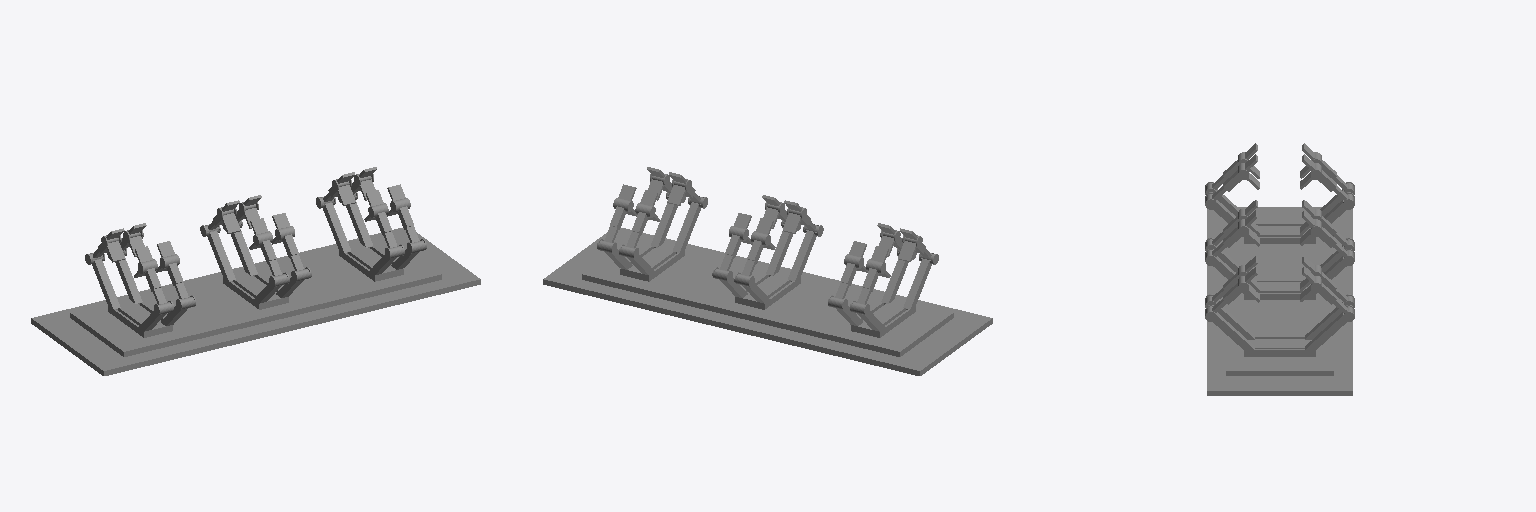
File: small-missile-workstation.obj
3 renders of one model, left to right at view 1: azimuth 30°, elevation 25°; view 2: azimuth 150°, elevation 25°; view 3: azimuth 270°, elevation 25°, orthographic.
Parts seen in each view (by area): view 1: Group_001, Component_1_008, Component_1_010, Component_1_009, Component_1_011, Component_1_012, Component_1_007; view 2: Group_001, Component_1_003, Component_1_002, Component_1_006, Component_1_001, Component_1_004, Component_1_005; view 3: Group_001, Component_1_001, Component_1_011.
Boxes of the visible parts, <box> form: Group_001: <box>31,228,480,375</box>; Component_1_008: <box>200,224,235,281</box>; Component_1_010: <box>316,196,350,253</box>; Component_1_009: <box>85,253,120,309</box>; Component_1_011: <box>338,192,372,247</box>; Component_1_012: <box>222,220,257,276</box>; Component_1_007: <box>107,248,142,304</box>; Group_001: <box>543,228,992,375</box>; Component_1_003: <box>788,224,823,281</box>; Component_1_002: <box>673,196,707,253</box>; Component_1_006: <box>903,253,938,309</box>; Component_1_001: <box>651,192,685,247</box>; Component_1_004: <box>766,220,800,276</box>; Component_1_005: <box>881,248,916,304</box>; Group_001: <box>1207,207,1352,395</box>; Component_1_001: <box>1205,305,1254,349</box>; Component_1_011: <box>1305,305,1354,349</box>.
Size of the model in its own units: 3 by 0.7317 by 1.03.